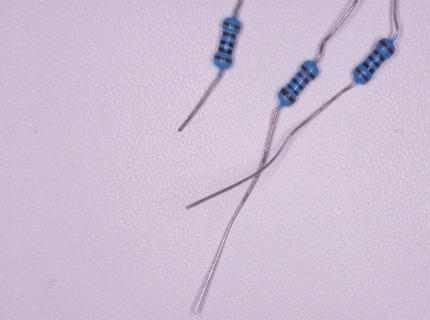Black band: (363, 61, 375, 74), (368, 55, 380, 68), (220, 40, 235, 48), (218, 47, 233, 55)
Brown band: (379, 39, 394, 55), (356, 67, 370, 82), (372, 48, 385, 63), (223, 22, 241, 31), (214, 55, 232, 64), (222, 31, 236, 40)
